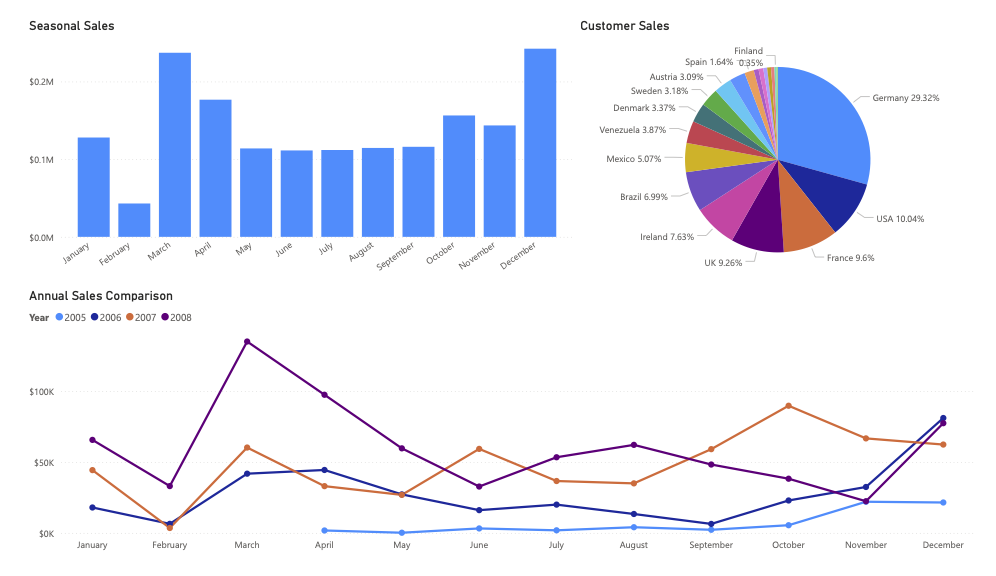

Layout of this report page (visuals, bound fields, positions):
{"tool":"powerbi","page":{"name":"Dashboard","canvas":[1280,720],"ordinal":0},"visuals":[{"type":"lineChart","title":"Annual Sales Comparison","fields":{"Category":["Orders.Month Name"],"Y":["Sum(Orders.Sales)"],"Series":["Orders.Year"]},"box":[10.2,359.2,1269.8,360.4],"z":0},{"type":"columnChart","title":"Seasonal Sales","fields":{"Category":["Orders.Month Name"],"Y":["Sum(Orders.Sales)"]},"box":[10.2,0,734.9,360.4],"z":1000},{"type":"pieChart","title":"Customer Sales","fields":{"Category":["Customers.CustomerCountry"],"Y":["Sum(Orders.Sales)"]},"box":[745.1,0,535.4,358.9],"z":2000}]}

Visuals, with their boxes in screenshot pixels (x1, y1, x2, y2), scaled from the page's 1280x720 canvas onto the 996x576 screenshot:
"Annual Sales Comparison" lineChart: box(8, 287, 995, 575)
"Seasonal Sales" columnChart: box(8, 0, 580, 288)
"Customer Sales" pieChart: box(580, 0, 995, 287)
